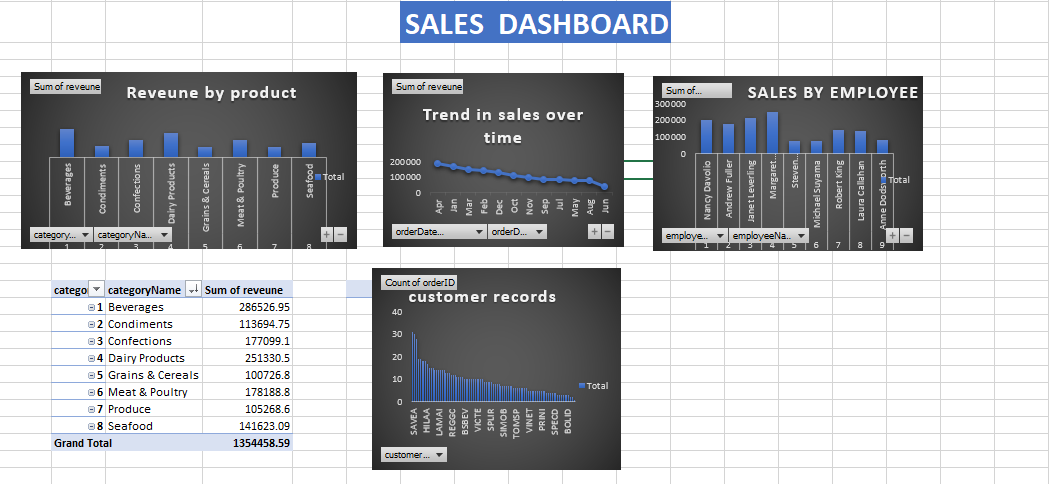

The dashboard page shown, as its layout file describes it:
{"tool":"powerbi","page":{"name":"Page 1","canvas":[1280,720],"ordinal":0},"visuals":[{"type":"card","fields":{"Values":["TRENDS IN SALE.Sum of reveune"]},"box":[8.7,94,263.1,229.9],"z":0},{"type":"lineChart","fields":{"Category":["TRENDS IN SALE.Row Labels"],"Y":["TRENDS IN SALE.Sum of reveune"]},"box":[423.6,426.5,433.7,277.6],"z":1000},{"type":"barChart","fields":{"Category":["REVEUNE BY PRODUCT.categoryName"],"Y":["REVEUNE BY PRODUCT.Sum of reveune"]},"box":[8.7,428,388.9,279],"z":2000},{"type":"clusteredBarChart","fields":{"Category":["CUSTOMER RECORDS.Row Labels"],"Y":["CUSTOMER RECORDS.Sum of orderID"]},"box":[883.4,420.7,348.4,279],"z":3000},{"type":"card","fields":{"Values":["CUSTOMER RECORDS.Sum of orderID"]},"box":[300.7,107,260.2,201],"z":4000},{"type":"slicer","fields":{"Values":["TRENDS IN SALE.Row Labels"]},"box":[443.9,319.5,276.1,101.2],"z":5000},{"type":"textbox","box":[300.7,13,563.9,53.5],"z":6000},{"type":"card","fields":{"Values":["SALES BY EMPLOYEE.employeeName"]},"box":[582.7,107,266,203.9],"z":7000},{"type":"actionButton","box":[0,0,100,40],"z":8000},{"type":"pieChart","fields":{"Category":["shippers1.companyName"],"Y":["REVEUNE BY PRODUCT.Sum of reveune"]},"box":[883.4,107,348.4,240],"z":9000}]}

Visuals, with their boxes on the page's 1280x720 design canvas (x1, y1, x2, y2). These are canvas units, not pixel positions in the 1049x484 screenshot, which may show the page scaled, cropped or inside an application window:
card - TRENDS IN SALE.Sum of reveune: <region>9, 94, 272, 324</region>
lineChart - TRENDS IN SALE.Row Labels x TRENDS IN SALE.Sum of reveune: <region>424, 426, 857, 704</region>
barChart - REVEUNE BY PRODUCT.categoryName x REVEUNE BY PRODUCT.Sum of reveune: <region>9, 428, 398, 707</region>
clusteredBarChart - CUSTOMER RECORDS.Row Labels x CUSTOMER RECORDS.Sum of orderID: <region>883, 421, 1232, 700</region>
card - CUSTOMER RECORDS.Sum of orderID: <region>301, 107, 561, 308</region>
slicer - TRENDS IN SALE.Row Labels: <region>444, 320, 720, 421</region>
textbox: <region>301, 13, 865, 66</region>
card - SALES BY EMPLOYEE.employeeName: <region>583, 107, 849, 311</region>
actionButton: <region>0, 0, 100, 40</region>
pieChart - shippers1.companyName x REVEUNE BY PRODUCT.Sum of reveune: <region>883, 107, 1232, 347</region>
